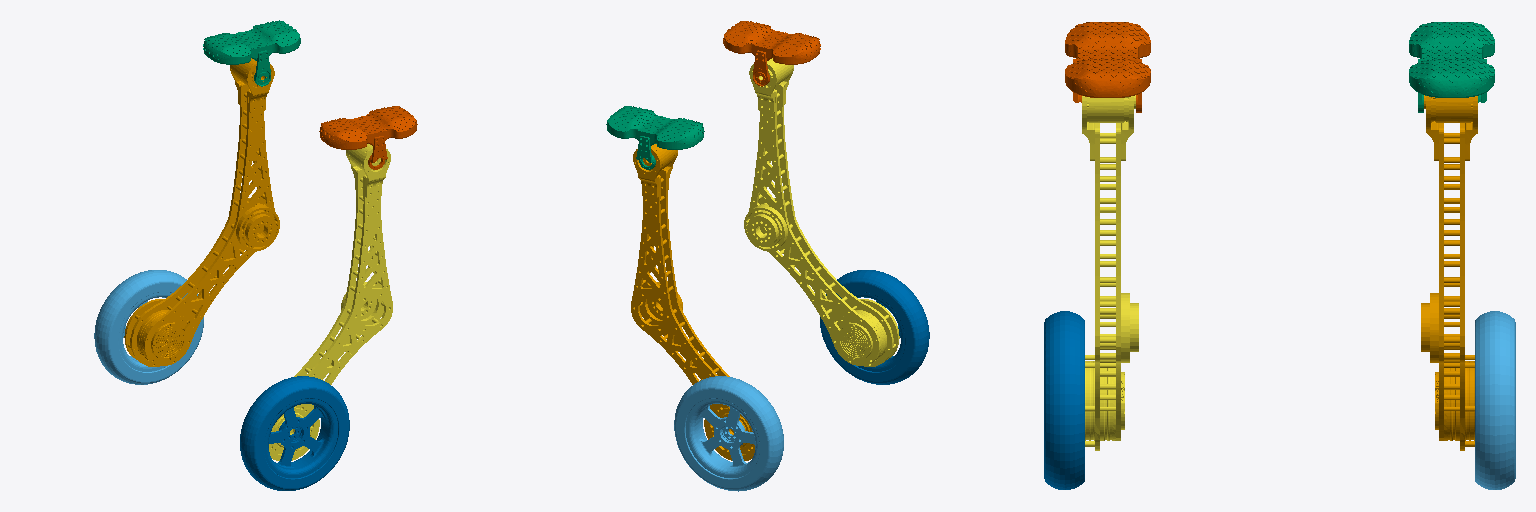
URDF robot description (LW):
<?xml version="1.0"?>
<robot name="LW">
  <link name="base_link">
    <inertial>
      <origin
        xyz="0.09363836 0.00071974 -0.03341964"
        rpy="0 0 0" />
      <mass
        value="10.76493269" />
      <inertia
        ixx="0.11868246"
        ixy="-0.00008927"
        ixz="-0.01324409"
        iyy="0.10939137"
        iyz="0.00056877"
        izz="0.10398242" />
    </inertial>
    <visual>
      <origin xyz="0.000000 0.000000 0.000000" rpy="0.000000 0.000000 0.000000"/>
      <geometry>
        <mesh filename="meshes/base_link.stl"/>
      </geometry>
    </visual>
    <collision>
      <origin xyz="0.000000 0.000000 0.000000" rpy="0.000000 0.000000 0.000000"/>
      <geometry>
        <mesh filename="meshes/base_link.stl"/>
      </geometry>
    </collision>
  </link>
  <link name="right_hip_link">
    <inertial>
      <origin
        xyz="0.01209628 0.00236360 0.00082575"
        rpy="0 0 0" />
      <mass
        value="1.69532239" />
      <inertia
        ixx="0.00160090"
        ixy="0.00027900"
        ixz="0.00003060"
        iyy="0.00300536"
        iyz="0.00000703"
        izz="0.00266370" />
    </inertial>
    <visual>
      <origin xyz="0.000000 0.000000 0.000000" rpy="0.000000 0.000000 0.000000"/>
      <geometry>
        <mesh filename="meshes/right_hip.stl"/>
      </geometry>
    </visual>
    <collision>
      <origin xyz="0.000000 0.000000 0.000000" rpy="0.000000 0.000000 0.000000"/>
      <geometry>
        <mesh filename="meshes/right_hip.stl"/>
      </geometry>
    </collision>
  </link>
  <link name="right_thigh_link">
    <inertial>
      <origin
        xyz="0.00184534 0.01711708 -0.19844668"
        rpy="0 0 0" />
      <mass
        value="2.08292210" />
      <inertia
        ixx="0.02381800"
        ixy="0.00002197"
        ixz="0.00025062"
        iyy="0.02487270"
        iyz="0.00095727"
        izz="0.00222419" />
    </inertial>
    <visual>
      <origin xyz="0.000000 0.000000 0.000000" rpy="0.000000 0.000000 0.000000"/>
      <geometry>
        <mesh filename="meshes/right_thigh.stl"/>
      </geometry>
    </visual>
    <collision>
      <origin xyz="0.000000 0.000000 0.000000" rpy="0.000000 0.000000 0.000000"/>
      <geometry>
        <mesh filename="meshes/right_thigh.stl"/>
      </geometry>
    </collision>
  </link>
  <link name="right_shank_link">
    <inertial>
      <origin
        xyz="-0.10137469 -0.01753330 -0.02485088"
        rpy="0 0 0" />
      <mass
        value="1.97447981" />
      <inertia
        ixx="0.07867343"
        ixy="-0.00127684"
        ixz="-0.03069711"
        iyy="0.09441814"
        iyz="-0.00168612"
        izz="0.01693077" />
    </inertial>
    <visual>
      <origin xyz="0.000000 0.000000 0.000000" rpy="0.000000 0.000000 0.000000"/>
      <geometry>
        <mesh filename="meshes/right_shank.stl"/>
      </geometry>
    </visual>
    <collision>
      <origin xyz="0.000000 0.000000 0.000000" rpy="0.000000 0.000000 0.000000"/>
      <geometry>
        <mesh filename="meshes/right_shank.stl"/>
      </geometry>
    </collision>
  </link>
  <link name="right_wheel_link">
    <inertial>
      <origin
        xyz="0.0 -0.00593046 0.0"
        rpy="0 0 0" />
      <mass
        value="1.18607212" />
      <inertia
        ixx="0.00406726"
        ixy="0.0"
        ixz="0.0"
        iyy="0.00771907"
        iyz="0.0"
        izz="0.00406726" />
    </inertial>
    <visual>
      <origin xyz="0.000000 0.000000 0.000000" rpy="0.000000 0.000000 0.000000"/>
      <geometry>
        <mesh filename="meshes/right_wheel.stl"/>
      </geometry>
    </visual>
    <collision>
      <origin xyz="0.000000 0.000000 0.000000" rpy="0.000000 0.000000 0.000000"/>
      <geometry>
        <mesh filename="meshes/right_wheel.stl"/>
      </geometry>
    </collision>
  </link>
  <link name="right_foot_link">
    <inertial>
      <origin
        xyz="0.0 -0.00054044 0.05031524"
        rpy="0 0 0" />
      <mass
        value="0.39895837" />
      <inertia
        ixx="0.00036067"
        ixy="0.0"
        ixz="0.0"
        iyy="0.00101680"
        iyz="-0.00000084"
        izz="0.00120664" />
    </inertial>
    <visual>
      <origin xyz="0.000000 0.000000 0.000000" rpy="0.000000 0.000000 0.000000"/>
      <geometry>
        <mesh filename="meshes/right_foot.stl"/>
      </geometry>
    </visual>
    <collision>
      <origin xyz="0.000000 0.000000 0.000000" rpy="0.000000 0.000000 0.000000"/>
      <geometry>
        <mesh filename="meshes/right_foot.stl"/>
      </geometry>
    </collision>
  </link>
  <link name="left_hip_link">
    <inertial>
      <origin
        xyz="0.00755272 -0.00236360 0.00082575"
        rpy="0 0 0" />
      <mass
        value="1.69532239" />
      <inertia
        ixx="0.00160090"
        ixy="-0.00023280"
        ixz="-0.00000309"
        iyy="0.00315671"
        iyz="-0.00000703"
        izz="0.00281505" />
    </inertial>
    <visual>
      <origin xyz="0.000000 0.000000 0.000000" rpy="0.000000 0.000000 0.000000"/>
      <geometry>
        <mesh filename="meshes/left_hip.stl"/>
      </geometry>
    </visual>
    <collision>
      <origin xyz="0.000000 0.000000 0.000000" rpy="0.000000 0.000000 0.000000"/>
      <geometry>
        <mesh filename="meshes/left_hip.stl"/>
      </geometry>
    </collision>
  </link>
  <link name="left_thigh_link">
    <inertial>
      <origin
        xyz="-0.00185274 -0.01711716 -0.19844796"
        rpy="0 0 0" />
      <mass
        value="2.08290871" />
      <inertia
        ixx="0.02381747"
        ixy="0.00002233"
        ixz="-0.00025084"
        iyy="0.02487208"
        iyz="-0.00095724"
        izz="0.00222409" />
    </inertial>
    <visual>
      <origin xyz="0.000000 0.000000 0.000000" rpy="0.000000 0.000000 0.000000"/>
      <geometry>
        <mesh filename="meshes/left_thigh.stl"/>
      </geometry>
    </visual>
    <collision>
      <origin xyz="0.000000 0.000000 0.000000" rpy="0.000000 0.000000 0.000000"/>
      <geometry>
        <mesh filename="meshes/left_thigh.stl"/>
      </geometry>
    </collision>
  </link>
  <link name="left_shank_link">
    <inertial>
      <origin
        xyz="-0.10139902 0.01753330 -0.02482657"
        rpy="0 0 0" />
      <mass
        value="1.97447981" />
      <inertia
        ixx="0.07865791"
        ixy="0.00127577"
        ixz="-0.03070076"
        iyy="0.09441078"
        iyz="0.00168719"
        izz="0.01693893" />
    </inertial>
    <visual>
      <origin xyz="0.000000 0.000000 0.000000" rpy="0.000000 0.000000 0.000000"/>
      <geometry>
        <mesh filename="meshes/left_shank.stl"/>
      </geometry>
    </visual>
    <collision>
      <origin xyz="0.000000 0.000000 0.000000" rpy="0.000000 0.000000 0.000000"/>
      <geometry>
        <mesh filename="meshes/left_shank.stl"/>
      </geometry>
    </collision>
  </link>
  <link name="left_wheel_link">
    <inertial>
      <origin
        xyz="0.0 0.00443046 0.0"
        rpy="0 0 0" />
      <mass
        value="1.18607212" />
      <inertia
        ixx="0.00406726"
        ixy="0.0"
        ixz="0.0"
        iyy="0.00771907"
        iyz="0.0"
        izz="0.00406726" />
    </inertial>
    <visual>
      <origin xyz="0.000000 0.000000 0.000000" rpy="0.000000 0.000000 0.000000"/>
      <geometry>
        <mesh filename="meshes/left_wheel.stl"/>
      </geometry>
    </visual>
    <collision>
      <origin xyz="0.000000 0.000000 0.000000" rpy="0.000000 0.000000 0.000000"/>
      <geometry>
        <mesh filename="meshes/left_wheel.stl"/>
      </geometry>
    </collision>
  </link>
  <link name="left_foot_link">
    <inertial>
      <origin
        xyz="0.0 0.00054044 0.05031524"
        rpy="0 0 0" />
      <mass
        value="0.39895837" />
      <inertia
        ixx="0.00036067"
        ixy="0.0"
        ixz="0.0"
        iyy="0.00101680"
        iyz="0.00000084"
        izz="0.00120664" />
    </inertial>
    <visual>
      <origin xyz="0.000000 0.000000 0.000000" rpy="0.000000 0.000000 0.000000"/>
      <geometry>
        <mesh filename="meshes/left_foot.stl"/>
      </geometry>
    </visual>
    <collision>
      <origin xyz="0.000000 0.000000 0.000000" rpy="0.000000 0.000000 0.000000"/>
      <geometry>
        <mesh filename="meshes/left_foot.stl"/>
      </geometry>
    </collision>
  </link>

  <joint name="right_hip_joint" type="revolute">
    <parent link="base_link"/>
    <child link="right_hip_link"/>
    <origin xyz="-0.077000 -0.080000 -0.115700" rpy="0.000000 -0.000000 0.000000"/>
    <axis xyz="-1.000000 0.000000 0.000000"/>
    <limit lower="-1.570796" upper="1.570796" effort="120.000000" velocity="20.000000"/>
  </joint>
  <joint name="left_hip_joint" type="revolute">
    <parent link="base_link"/>
    <child link="left_hip_link"/>
    <origin xyz="-0.077000 0.080000 -0.115700" rpy="0.000000 -0.000000 0.000000"/>
    <axis xyz="-1.000000 0.000000 0.000000"/>
    <limit lower="-1.570796" upper="1.570796" effort="120.000000" velocity="20.000000"/>
  </joint>
  <joint name="right_thigh_joint" type="revolute">
    <parent link="right_hip_link"/>
    <child link="right_thigh_link"/>
    <origin xyz="0.000000 -0.072000 0.000000" rpy="0.000000 -0.000000 0.000000"/>
    <axis xyz="0.000000 -1.000000 0.000000"/>
    <limit lower="-1.570796" upper="1.570796" effort="120.000000" velocity="20.000000"/>
  </joint>
  <joint name="left_thigh_joint" type="revolute">
    <parent link="left_hip_link"/>
    <child link="left_thigh_link"/>
    <origin xyz="0.000000 0.072000 0.000000" rpy="0.000000 -0.000000 0.000000"/>
    <axis xyz="0.000000 1.000000 0.000000"/>
    <limit lower="-1.570796" upper="1.570796" effort="120.000000" velocity="20.000000"/>
  </joint>
  <joint name="right_shank_joint" type="revolute">
    <parent link="right_thigh_link"/>
    <child link="right_shank_link"/>
    <origin xyz="0.000000 -0.045000 -0.260000" rpy="0.000000 -0.000000 0.000000"/>
    <axis xyz="0.000000 -1.000000 0.000000"/>
    <limit lower="-3.141593" upper="3.141593" effort="120.000000" velocity="20.000000"/>
  </joint>
  <joint name="left_shank_joint" type="revolute">
    <parent link="left_thigh_link"/>
    <child link="left_shank_link"/>
    <origin xyz="0.000000 0.045000 -0.260000" rpy="0.000000 -0.000000 0.000000"/>
    <axis xyz="0.000000 1.000000 0.000000"/>
    <limit lower="-3.141593" upper="3.141593" effort="120.000000" velocity="20.000000"/>
  </joint>
  <joint name="right_wheel_joint" type="continuous">
    <parent link="right_shank_link"/>
    <child link="right_wheel_link"/>
    <origin xyz="-0.183850 -0.059500 -0.183850" rpy="0.000000 -0.000000 0.000000"/>
    <axis xyz="0.000000 -1.000000 0.000000"/>
    <limit effort="40.000000" velocity="33.000000"/>
  </joint>
  <joint name="left_wheel_joint" type="continuous">
    <parent link="left_shank_link"/>
    <child link="left_wheel_link"/>
    <origin xyz="-0.183850 0.061000 -0.183850" rpy="0.000000 -0.000000 0.000000"/>
    <axis xyz="0.000000 1.000000 0.000000"/>
    <limit effort="40.000000" velocity="33.000000"/>
  </joint>
  <joint name="right_foot_joint" type="revolute">
    <parent link="right_shank_link"/>
    <child link="right_foot_link"/>
    <origin xyz="0.000000 -0.013000 0.307000" rpy="0.000000 -0.000000 0.000000"/>
    <axis xyz="0.000000 -1.000000 0.000000"/>
    <limit lower="-1.919862" upper="1.919862" effort="27.000000" velocity="10.000000"/>
  </joint>
  <joint name="left_foot_joint" type="revolute">
    <parent link="left_shank_link"/>
    <child link="left_foot_link"/>
    <origin xyz="0.000000 0.013000 0.307000" rpy="0.000000 -0.000000 0.000000"/>
    <axis xyz="0.000000 1.000000 0.000000"/>
    <limit lower="-1.919862" upper="1.919862" effort="27.000000" velocity="10.000000"/>
  </joint>
</robot>

--- What the picture shows (computed from the rendered views, not written in the file) ---
3 views of the same robot in one strip: view 1: azimuth 30°, elevation 25°; view 2: azimuth 150°, elevation 25°; view 3: azimuth 270°, elevation 25° (orthographic).
Robot: LW — 11 links, 10 joints (8 revolute, 2 continuous); root link base_link; default pose: every joint at zero.
Links seen in each view (by area): view 1: left_shank_link, right_shank_link, right_wheel_link, left_wheel_link, left_foot_link, right_foot_link; view 2: right_shank_link, left_shank_link, left_wheel_link, right_wheel_link, right_foot_link, left_foot_link; view 3: left_shank_link, right_shank_link, left_wheel_link, right_wheel_link, right_foot_link, left_foot_link.
Boxes of the visible links, x1,y1,x2,y2 form: left_shank_link: [124, 58, 279, 366]; right_shank_link: [269, 144, 392, 460]; right_wheel_link: [240, 376, 349, 490]; left_wheel_link: [94, 270, 203, 384]; left_foot_link: [203, 20, 300, 86]; right_foot_link: [319, 106, 417, 169]; right_shank_link: [744, 58, 899, 366]; left_shank_link: [631, 144, 754, 460]; left_wheel_link: [674, 376, 783, 491]; right_wheel_link: [820, 270, 929, 384]; right_foot_link: [723, 21, 820, 86]; left_foot_link: [606, 106, 704, 169]; left_shank_link: [1421, 95, 1477, 450]; right_shank_link: [1082, 95, 1138, 450]; left_wheel_link: [1475, 311, 1515, 489]; right_wheel_link: [1044, 311, 1084, 489]; right_foot_link: [1065, 22, 1150, 112]; left_foot_link: [1409, 22, 1494, 112].
Bounding box of the posed robot: 0.3843 × 0.575 × 0.6713 m (x, y, z).
Meshes: 11 distinct files referenced, 6 mesh visuals loaded (6 binary STL); not drawn: 5 (reference not matched to a file when rendering).